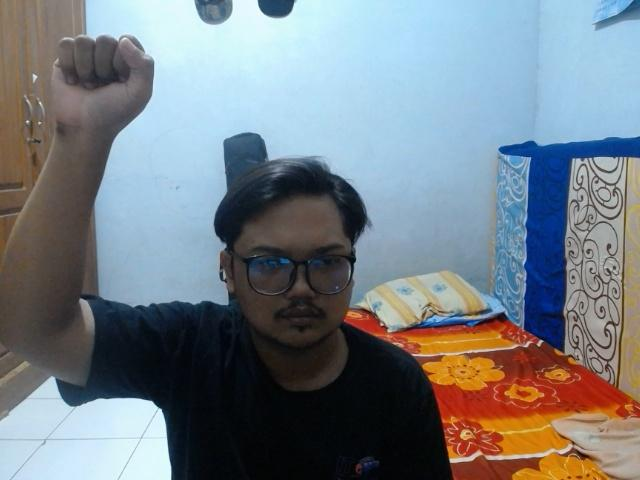Grab: (46, 32, 157, 141)
